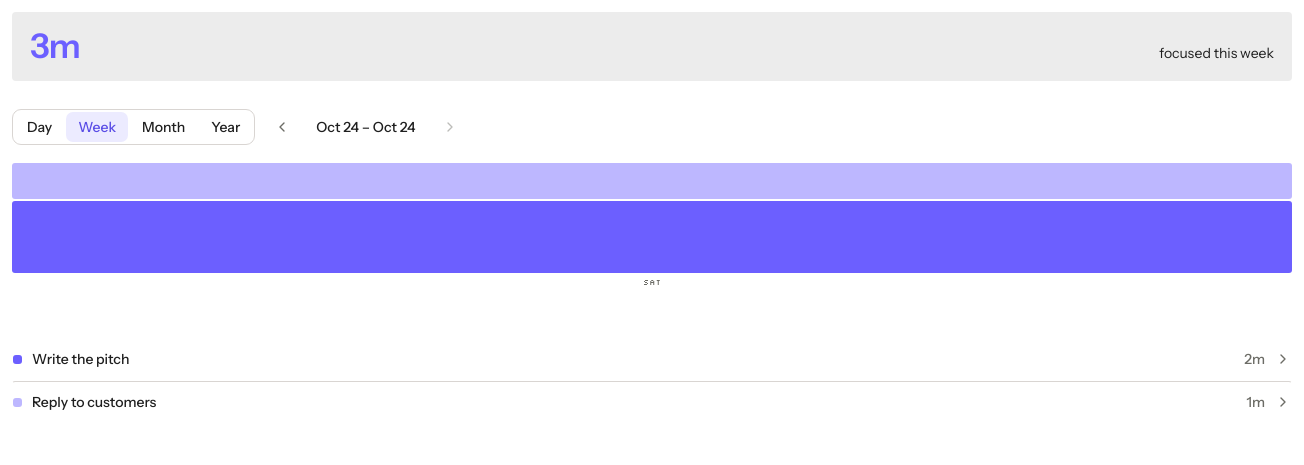
opens historical goals even when they are absent from today's goal list
Step 1. Click the button named "Write the pitch · Sat · 2m" → (652, 237), box [12, 201, 1292, 273]
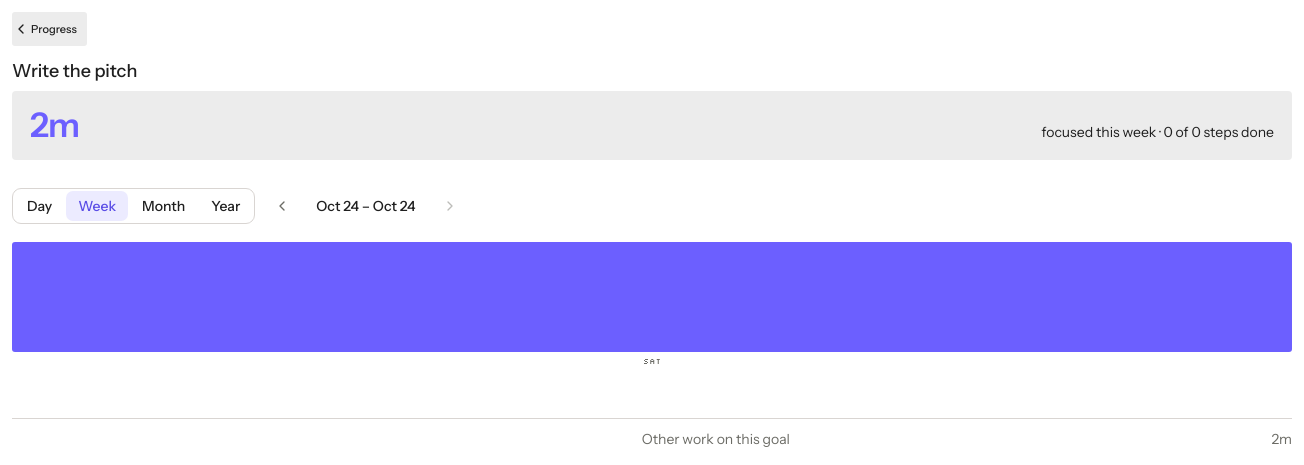
Expected: the heading "Write the pitch" is shown, [12, 60, 137, 82]
Now the text "Other work on this goal" is shown, box [642, 430, 790, 448]
